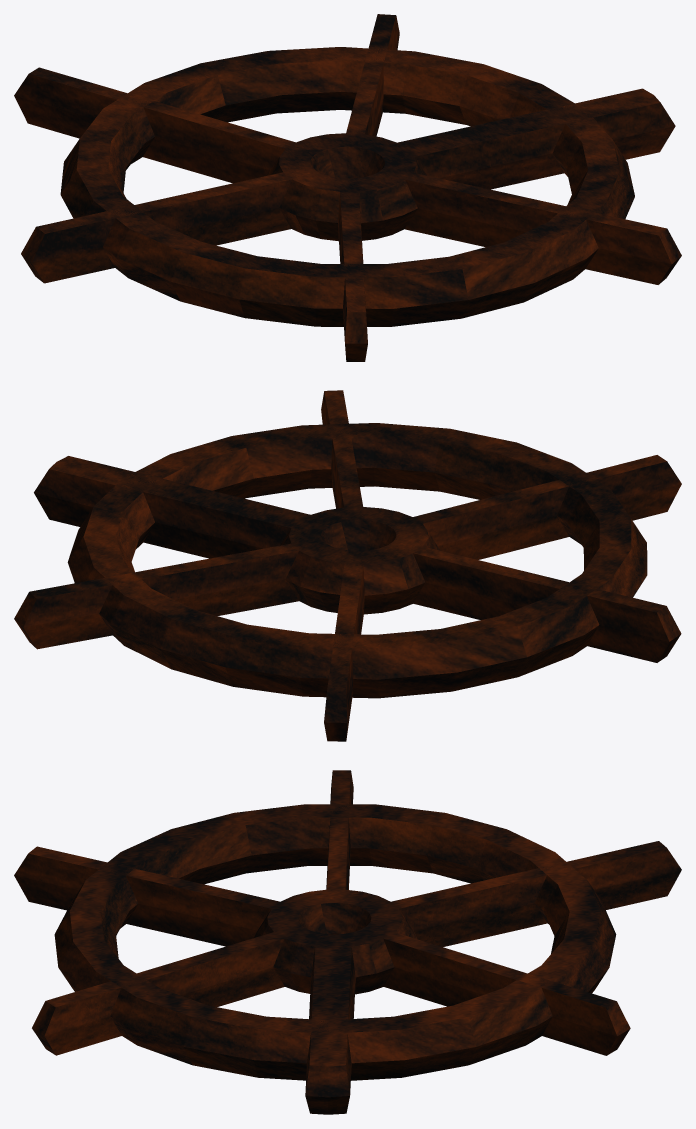
The model's file is SteeringWheel.fbx.
3 views of the same model, one above another, from view 1: azimuth 30°, elevation 25°; view 2: azimuth 150°, elevation 25°; view 3: azimuth 270°, elevation 25° (orthographic). The views are drawn at different scales.
Parts seen in each view (by area): view 1: SteeringWheel; view 2: SteeringWheel; view 3: SteeringWheel.
Boxes of the visible parts, bbox=[...] form: SteeringWheel: bbox=[14, 14, 681, 361]; SteeringWheel: bbox=[14, 390, 681, 741]; SteeringWheel: bbox=[14, 770, 681, 1114].
Size of the model in its own units: 279 by 24.77 by 260.
